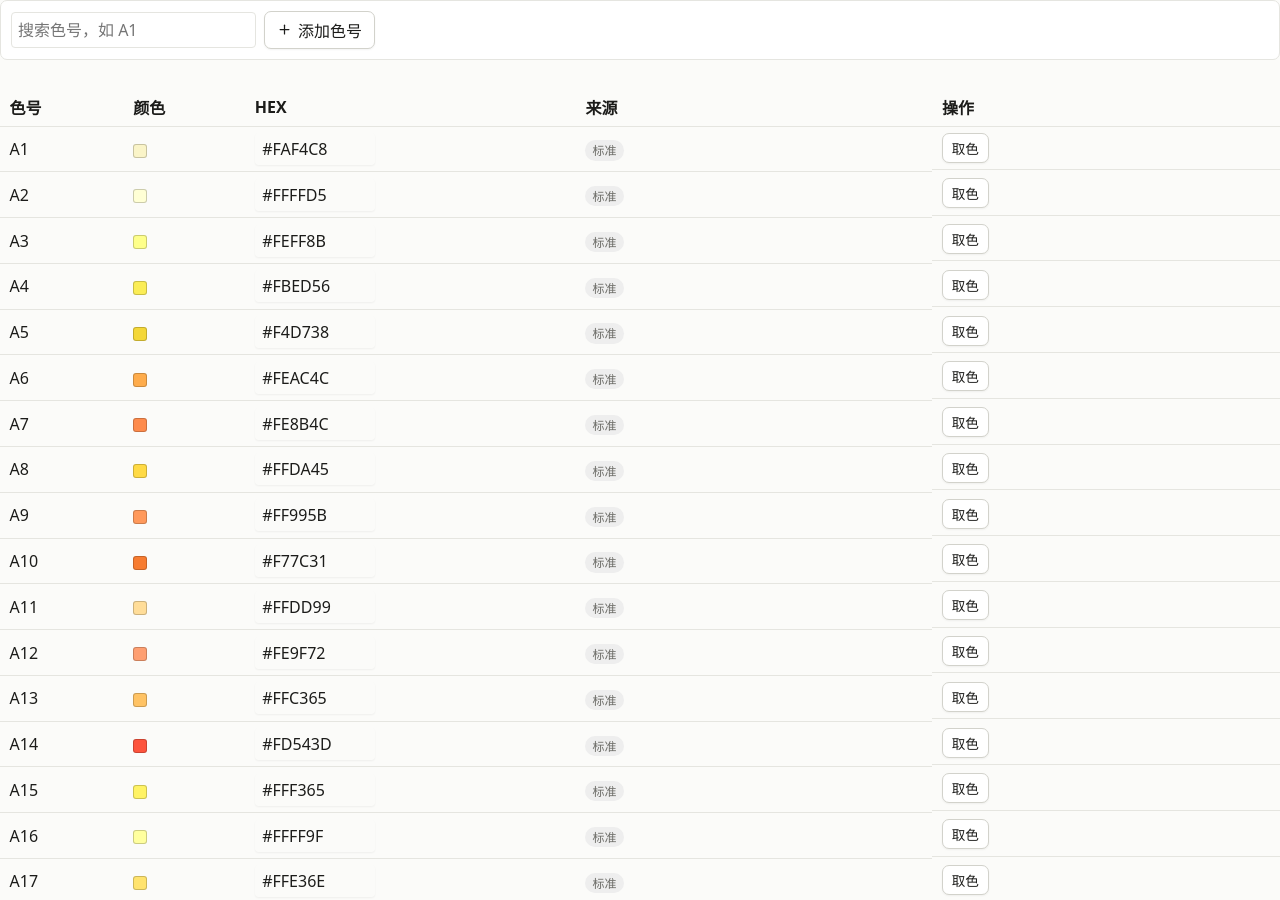
Test: MyColorsPage › refuses to delete a referenced custom colour and surfaces the reason
This screenshot has width=1280, height=900.
In the search field labelled "搜索色号": (134, 30) x1=11 y1=12 x2=256 y2=48, type "X1"
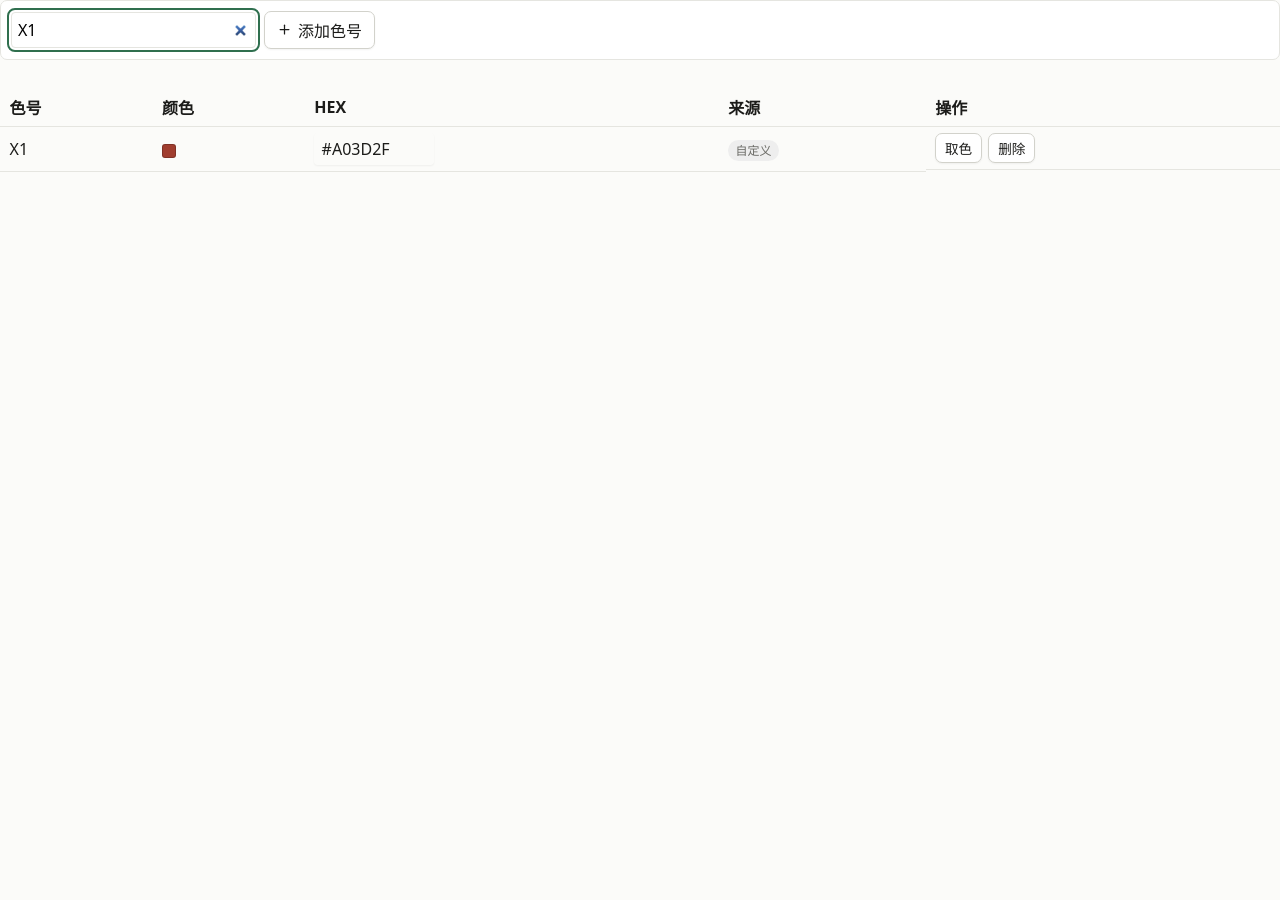
Click the button "删除": (1012, 148) x1=988 y1=133 x2=1035 y2=163
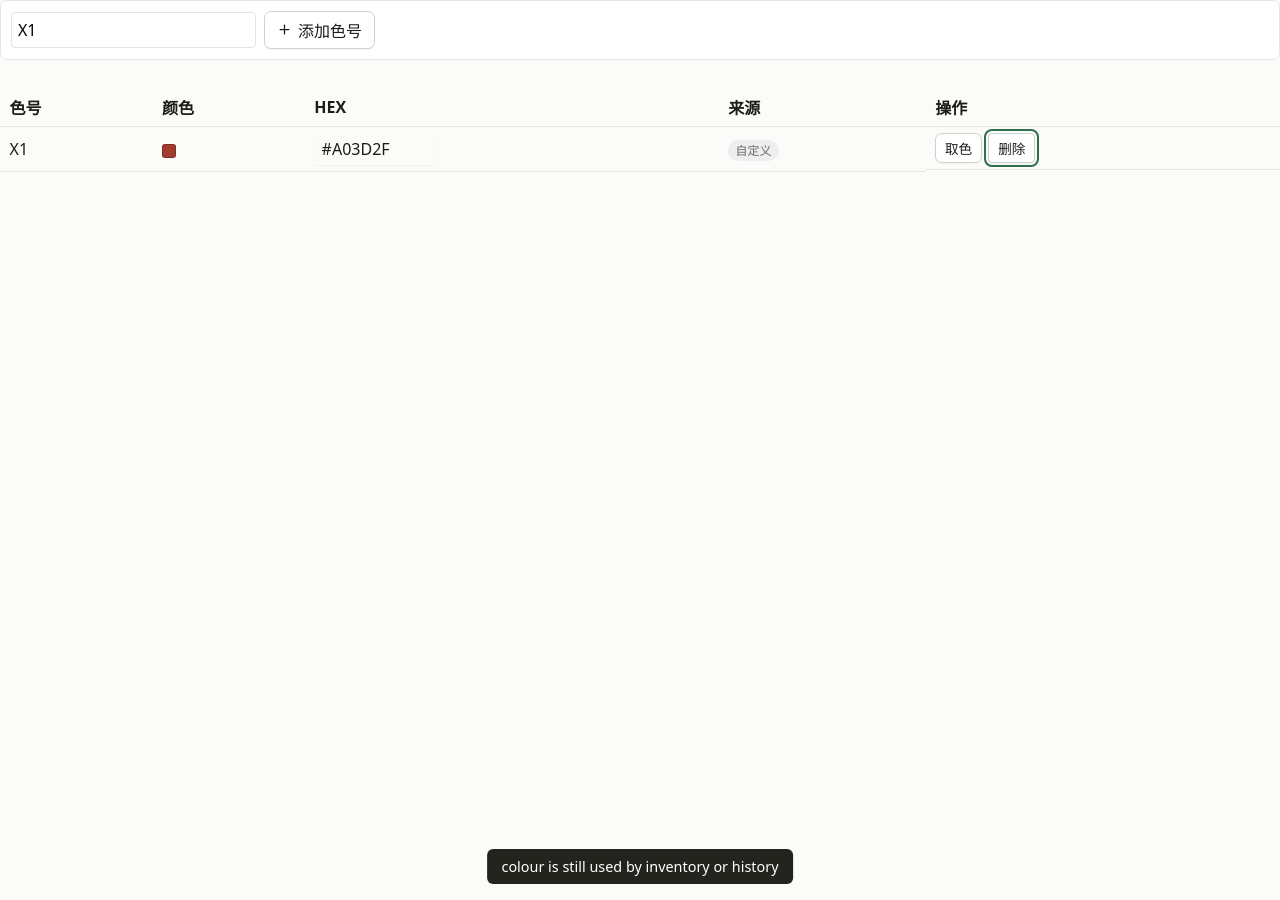
Expected: the message reads "colour is still used by inventory or history", x1=502 y1=857 x2=778 y2=876
